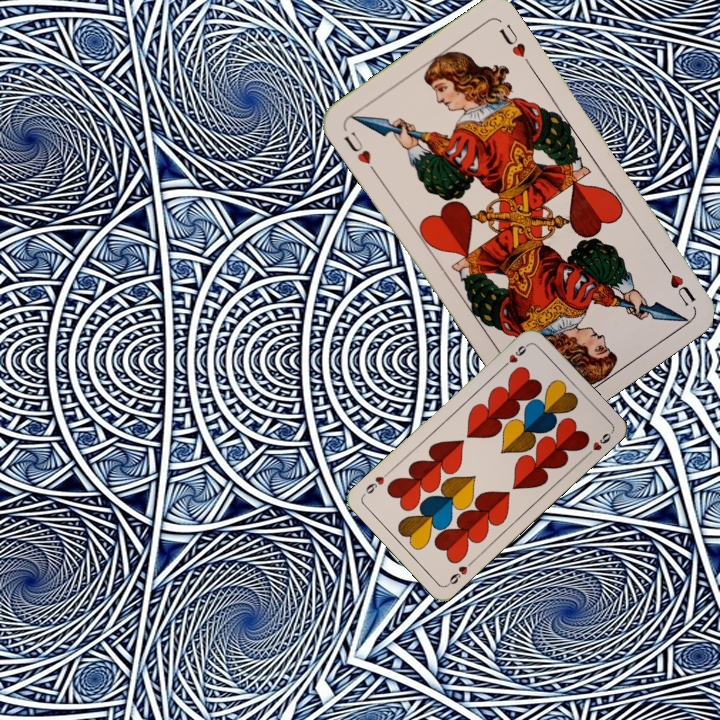H9: (443, 557, 476, 588), (498, 340, 531, 371)
HU: (658, 257, 698, 309), (340, 127, 379, 177)
